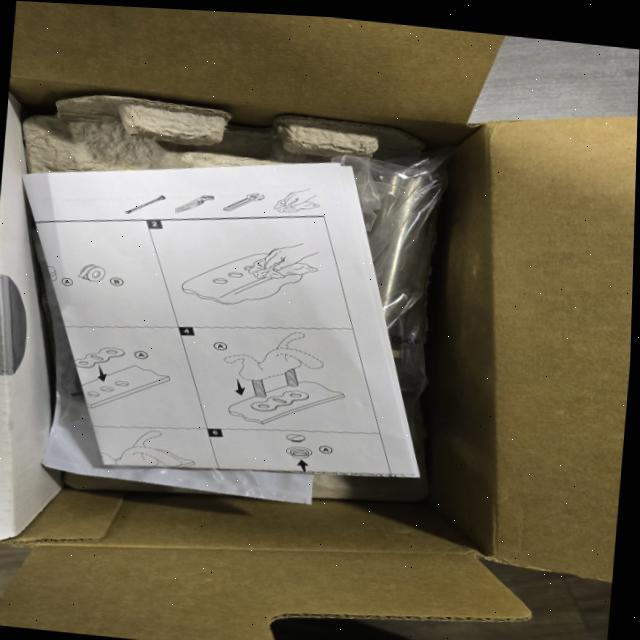11o: (332, 148, 453, 420)
12o: (39, 297, 313, 504)
8: (23, 164, 419, 478)
